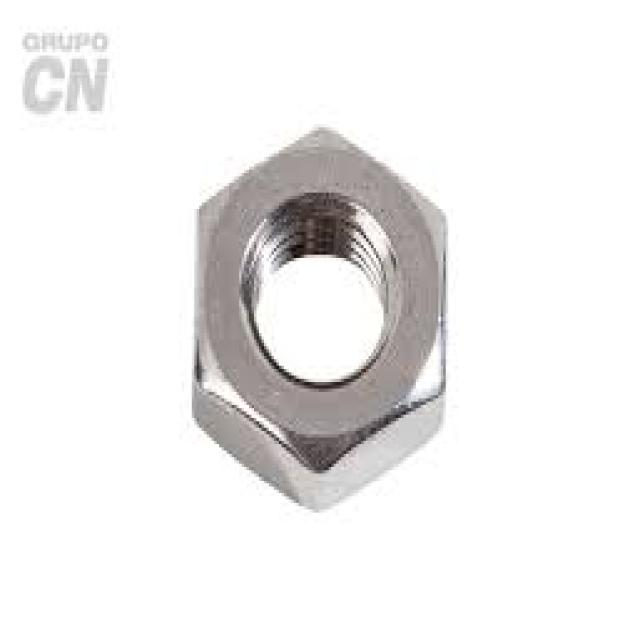Dry Waste: (145, 121, 483, 524)
